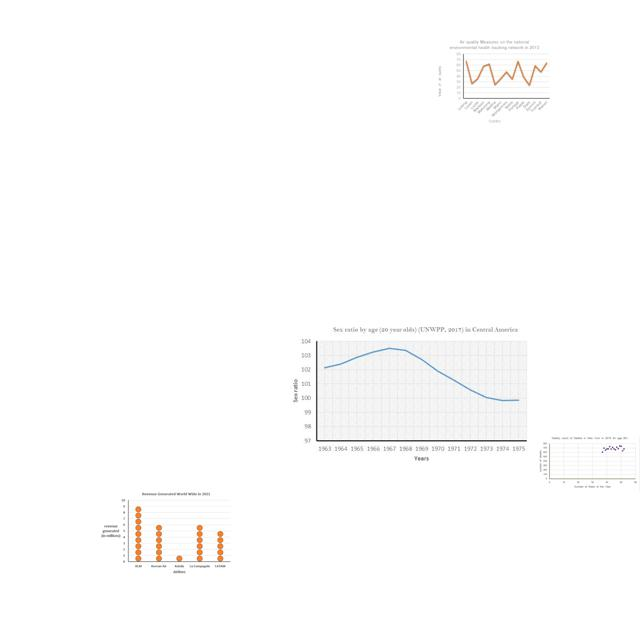Graph: (286, 323, 531, 468), (100, 491, 233, 576), (434, 38, 555, 124), (538, 436, 640, 491)
